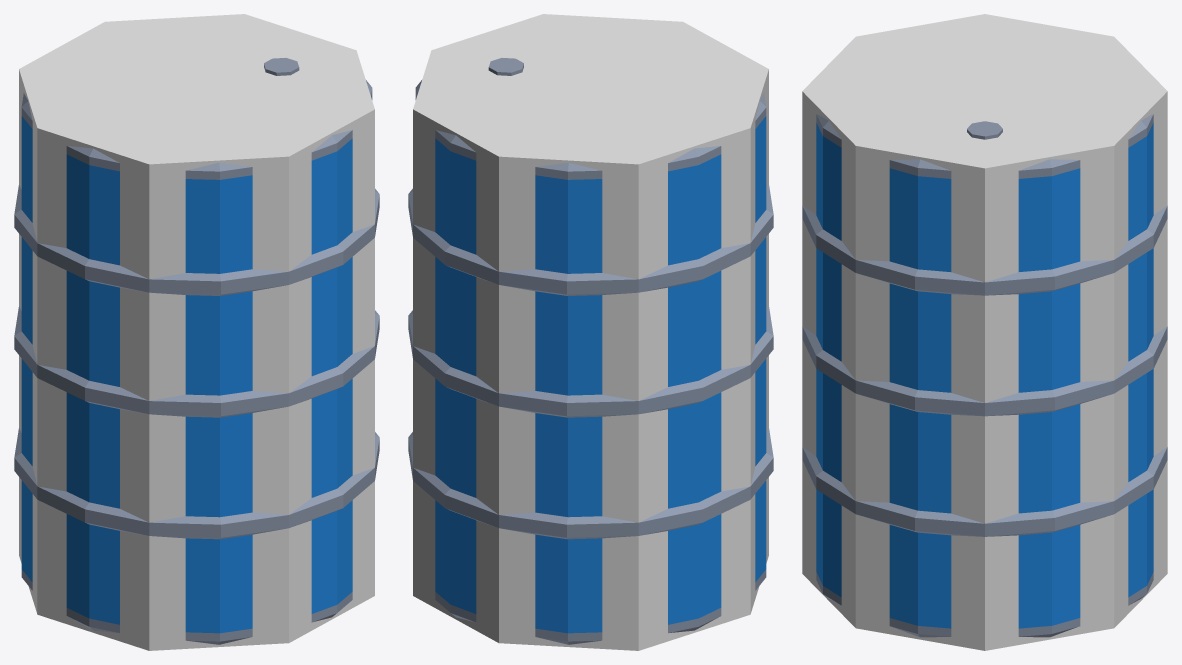
File: prop_thung_phi.fbx
The picture shows the model from 3 angles, left to right: view 1: azimuth 30°, elevation 25°; view 2: azimuth 150°, elevation 25°; view 3: azimuth 270°, elevation 25°; orthographic projection.
Parts seen in each view (by area): view 1: thung_phi_col, thung_phi; view 2: thung_phi_col, thung_phi; view 3: thung_phi_col, thung_phi.
Boxes of the visible parts, x1,y1,x2,y2 form: thung_phi_col: (19,14,374,650); thung_phi: (14,58,379,644); thung_phi_col: (413,14,768,650); thung_phi: (408,58,773,644); thung_phi_col: (802,14,1167,650); thung_phi: (802,114,1167,637).
Size of the model in its own units: 0.604 by 0.886 by 0.604.
